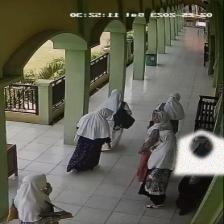Mukena: (174, 130, 224, 174)
